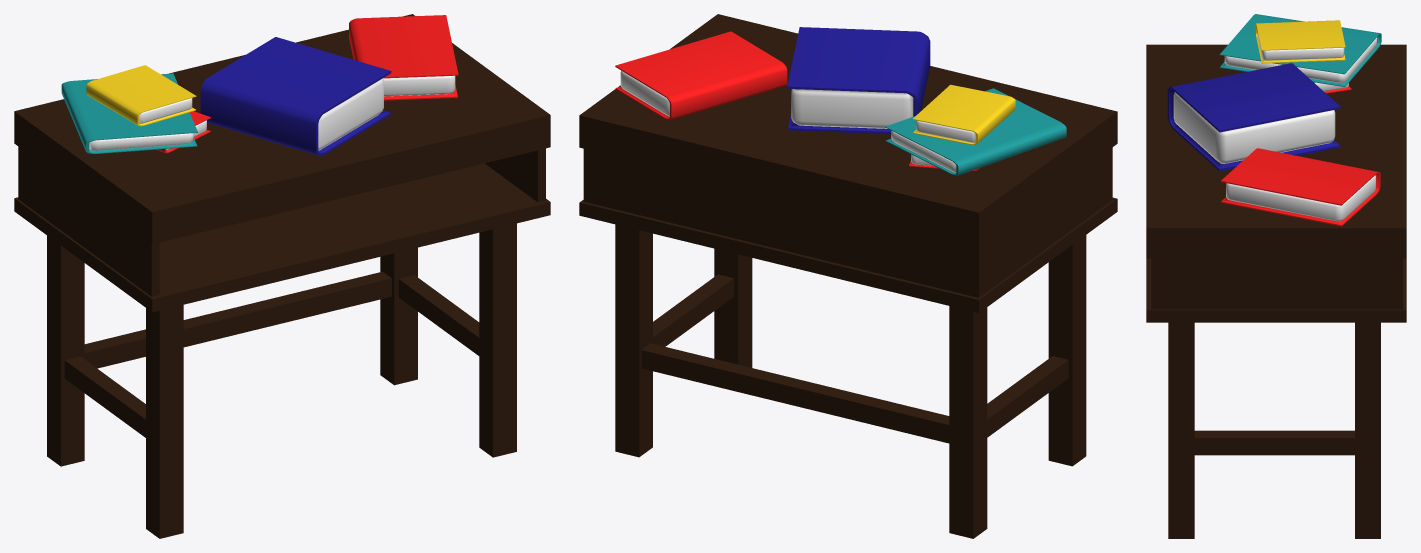
3 renders of one model, left to right at view 1: azimuth 30°, elevation 25°; view 2: azimuth 150°, elevation 25°; view 3: azimuth 270°, elevation 25°, orthographic. The views are drawn at different scales.
Visible parts, largest first — view 1: Box001, Box003, ChamferBox004, C-Ext001, Box002, Box006, Box004, Box007, ChamferBox003, ChamferBox005, ChamferBox006, Box005 (+2 smaller); view 2: Box001, C-Ext001, ChamferBox004, ChamferBox003, Box004, Box007, Box003, Box005, Box002, ChamferBox005, ChamferBox006, Box006 (+2 smaller); view 3: Box001, C-Ext001, ChamferBox004, ChamferBox003, Box006, Box005, ChamferBox005, Box009, Box003, ChamferBox006.
Part boxes in pixels (x1,y1,x2,y2): Box001: (14,14,550,244); Box003: (14,163,550,312); ChamferBox004: (200,37,391,155); C-Ext001: (18,147,545,296); Box002: (146,305,183,538); Box006: (479,223,516,457); Box004: (47,235,84,466); Box007: (84,271,391,368); ChamferBox003: (349,15,458,100); ChamferBox005: (61,73,197,153); ChamferBox006: (86,65,196,126); Box005: (380,247,417,385); Box001: (579,14,1117,244); C-Ext001: (583,147,1112,297); ChamferBox004: (787,27,930,134); ChamferBox003: (615,31,787,120); Box004: (949,306,987,538); Box007: (641,343,949,443); Box003: (579,197,1117,312); Box005: (615,224,652,457); Box002: (1048,235,1086,466); ChamferBox005: (885,88,1066,175); ChamferBox006: (912,84,1015,144); Box006: (714,248,752,367); Box001: (1146,44,1406,258); C-Ext001: (1151,258,1402,309); ChamferBox004: (1167,63,1340,171); ChamferBox003: (1220,148,1380,226); Box006: (1168,322,1194,538); Box005: (1355,322,1380,538); ChamferBox005: (1219,14,1381,86); Box009: (1194,430,1354,455); Box003: (1146,258,1406,322); ChamferBox006: (1255,20,1345,63).
Size of the model in its own units: 50.98 by 46.26 by 30.
5 materials, 4 textured.
